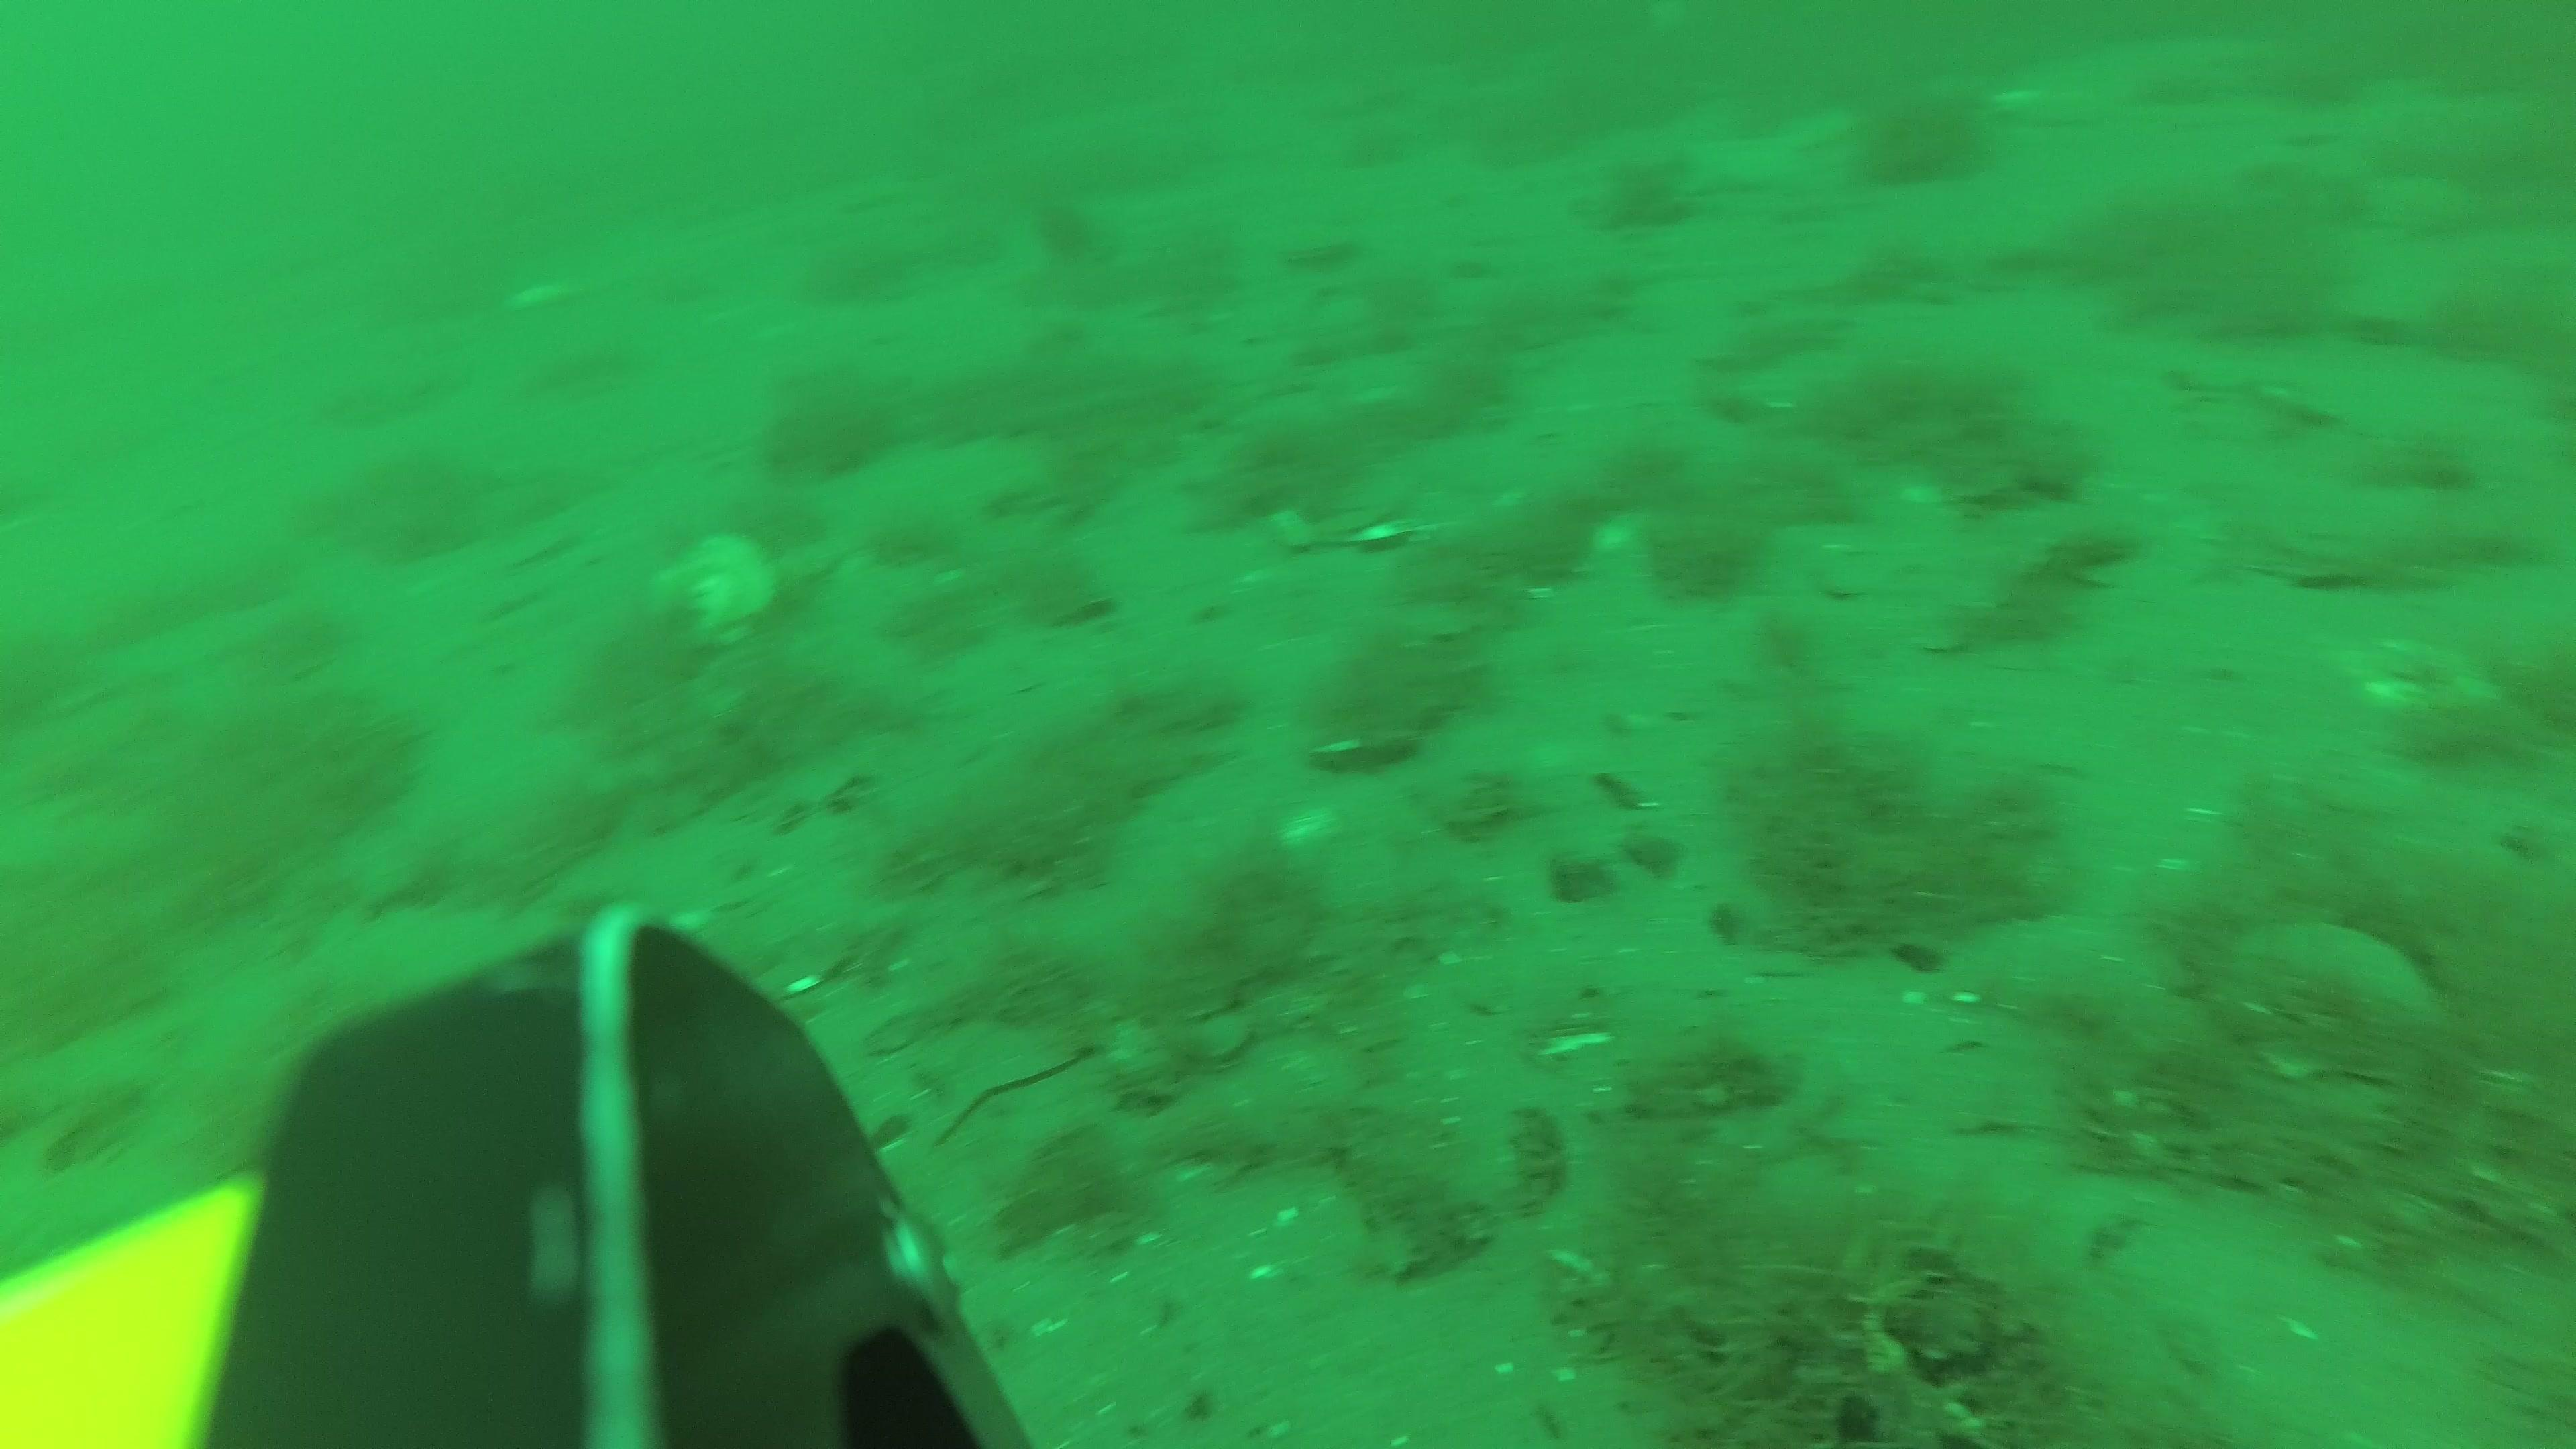scallop: (2220, 924, 2442, 1081), (649, 536, 777, 653), (1270, 479, 1421, 552), (1284, 219, 1352, 265)
starfish: (1679, 136, 1821, 191)
